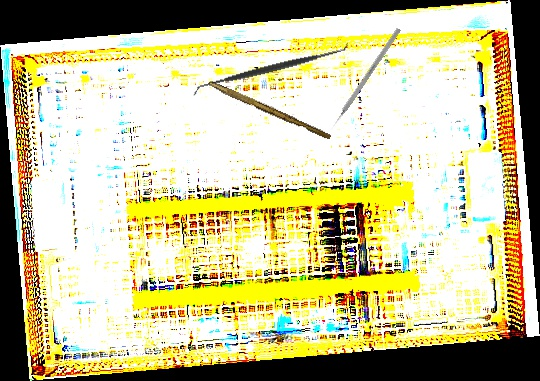Hook Surgical: (328, 27, 402, 132)
Scalpel Handle: (206, 80, 333, 141)
Spatula Surgical: (189, 40, 352, 98)
